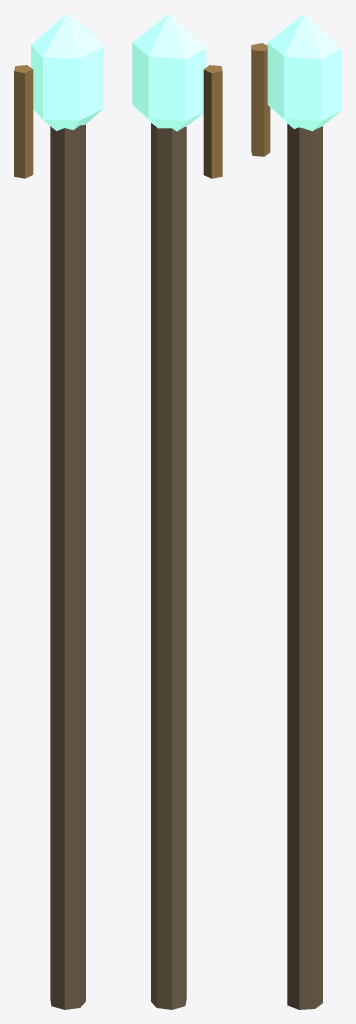
The model's file is NPC_Hand_02_Staff.glb.
3 views of the same model, side by side, from view 1: azimuth 30°, elevation 25°; view 2: azimuth 150°, elevation 25°; view 3: azimuth 330°, elevation 25° (orthographic).
Parts seen in each view (by area): view 1: NPC_Hand_02_Staff; view 2: NPC_Hand_02_Staff; view 3: NPC_Hand_02_Staff.
Boxes of the visible parts, x1=… form: NPC_Hand_02_Staff: x1=14, y1=14, x2=103, y2=1009; NPC_Hand_02_Staff: x1=132, y1=14, x2=222, y2=1009; NPC_Hand_02_Staff: x1=251, y1=14, x2=341, y2=1009.
Bounding box in the file's own units: 0.142 × 1.59 × 0.0944.
